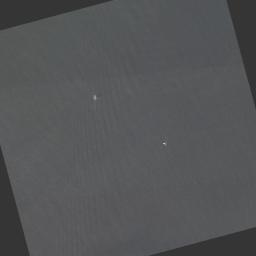boat: (161, 139, 166, 146), (92, 94, 96, 99)
